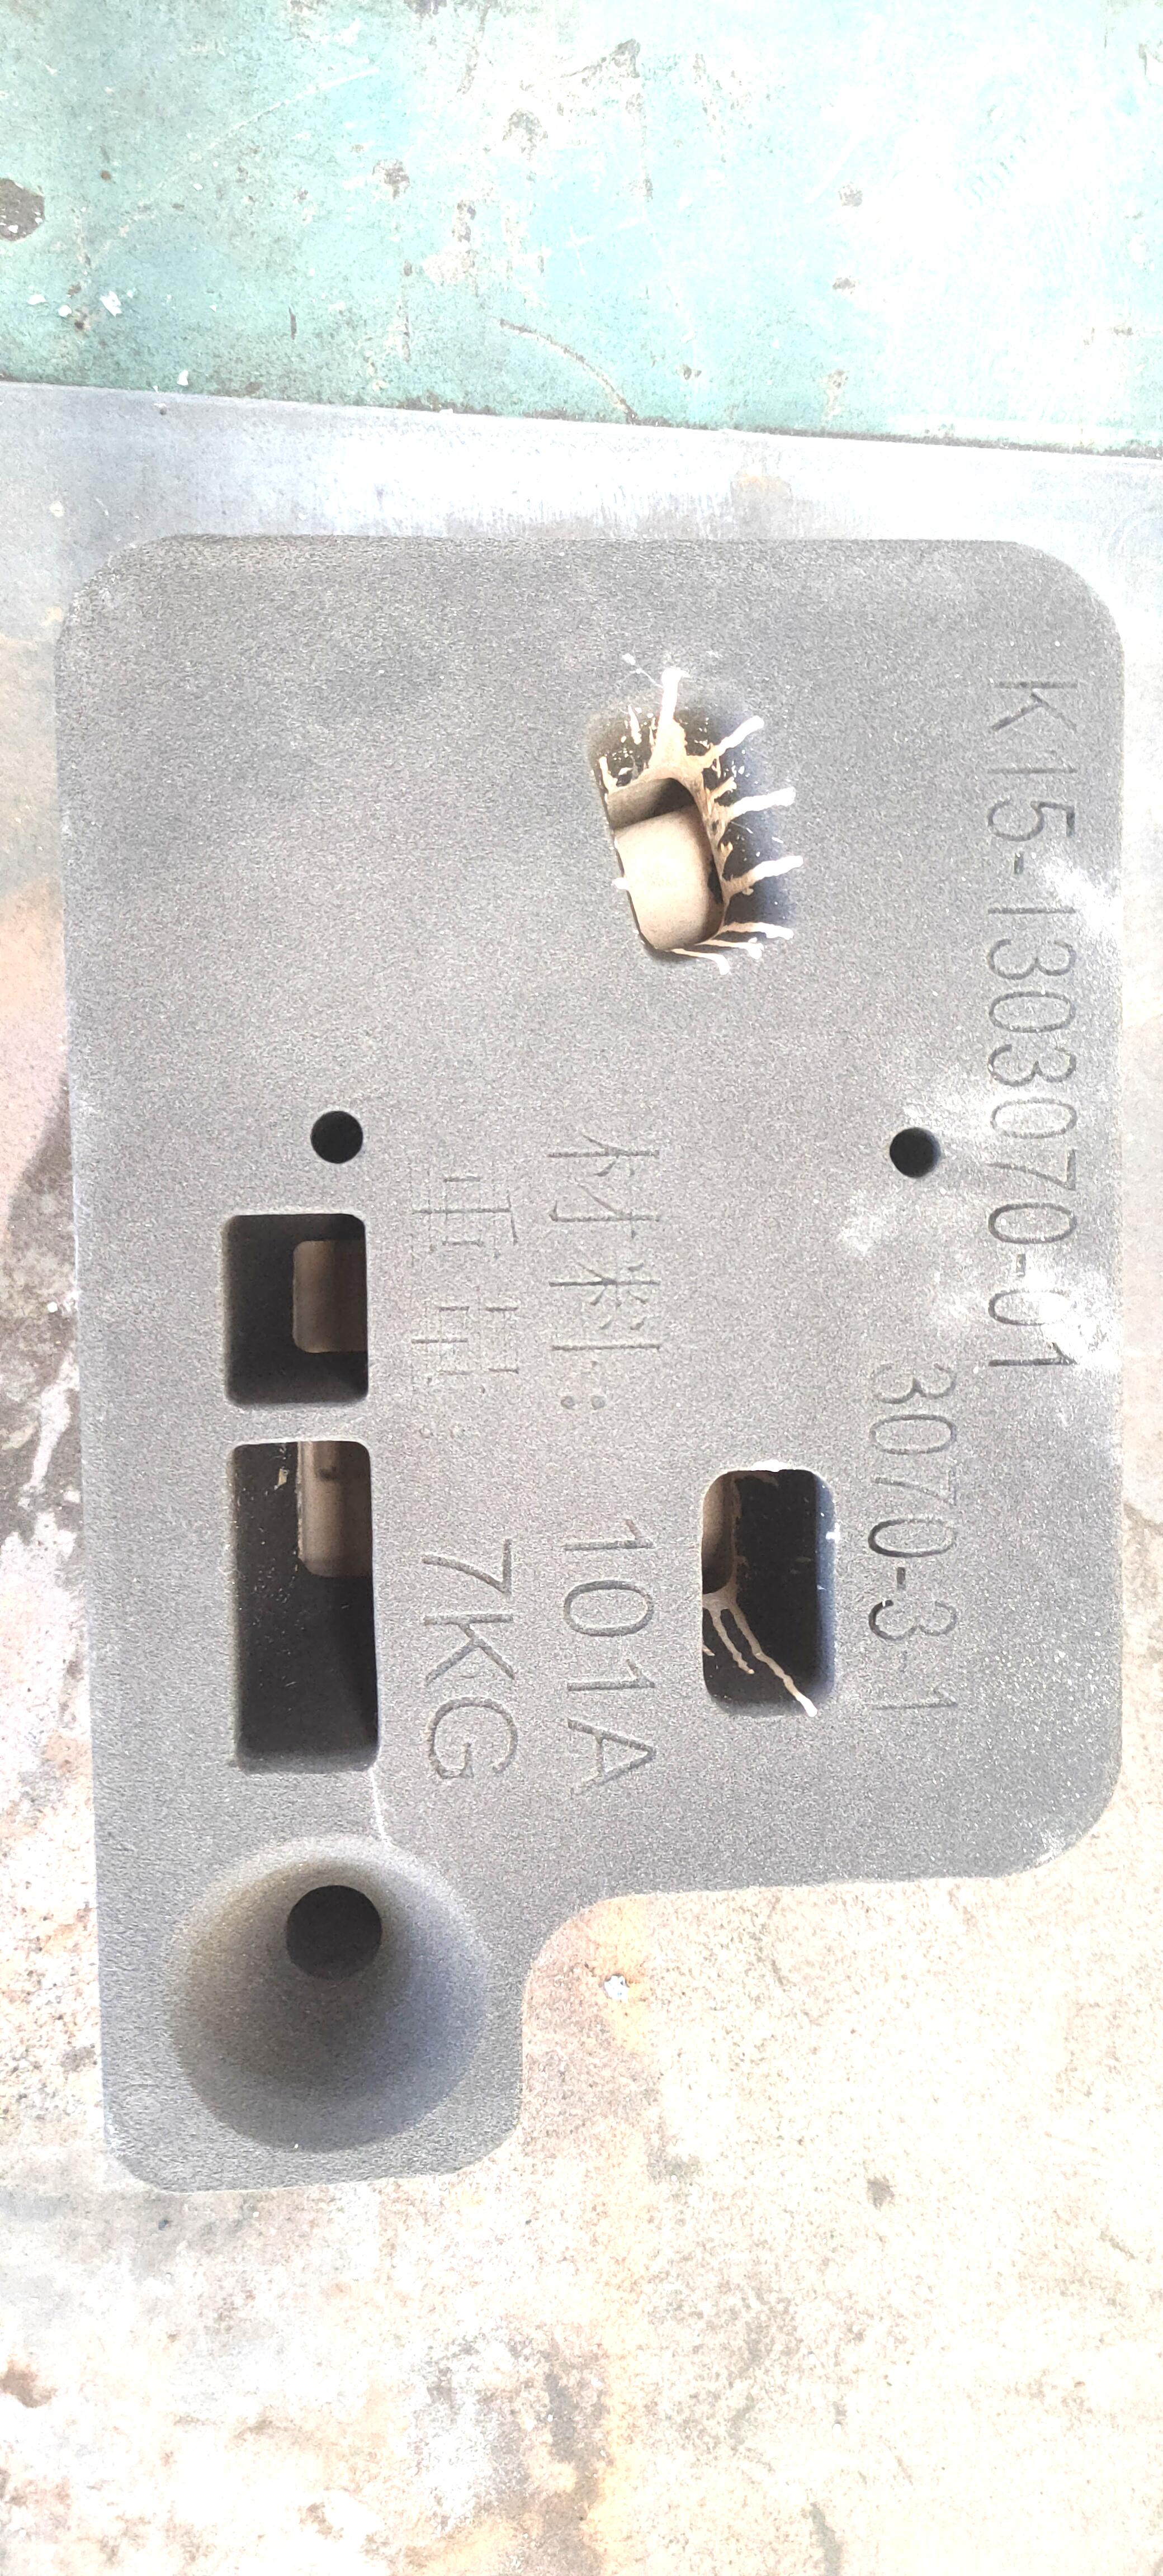pouring hole: (158, 1832, 491, 2155)
